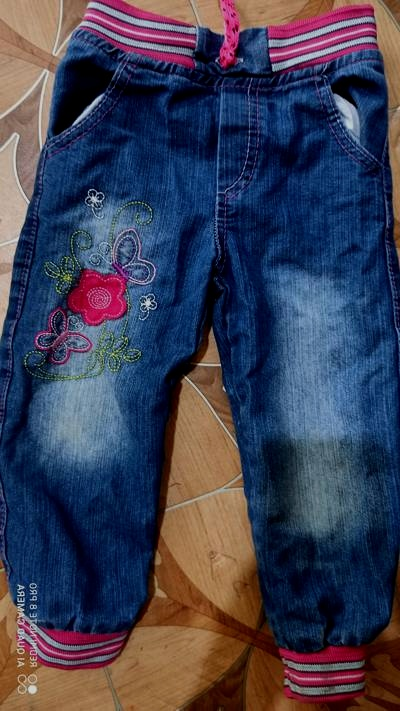Pants: (9, 8, 398, 635)
